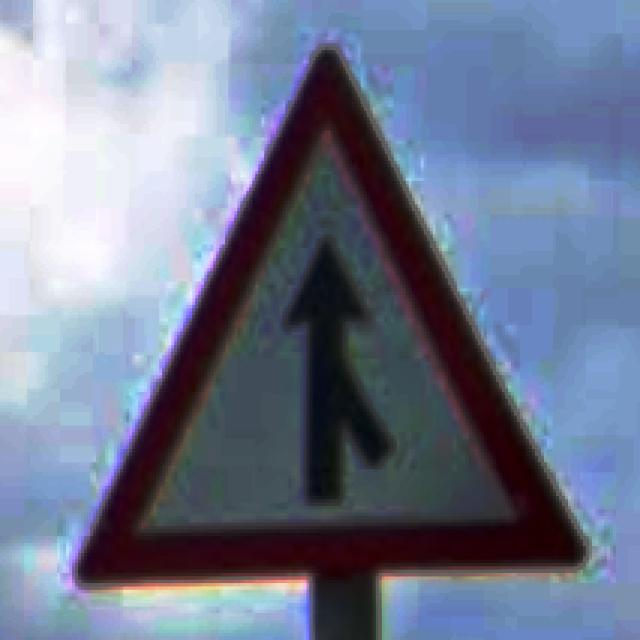rightmerge: (80, 44, 590, 575)
